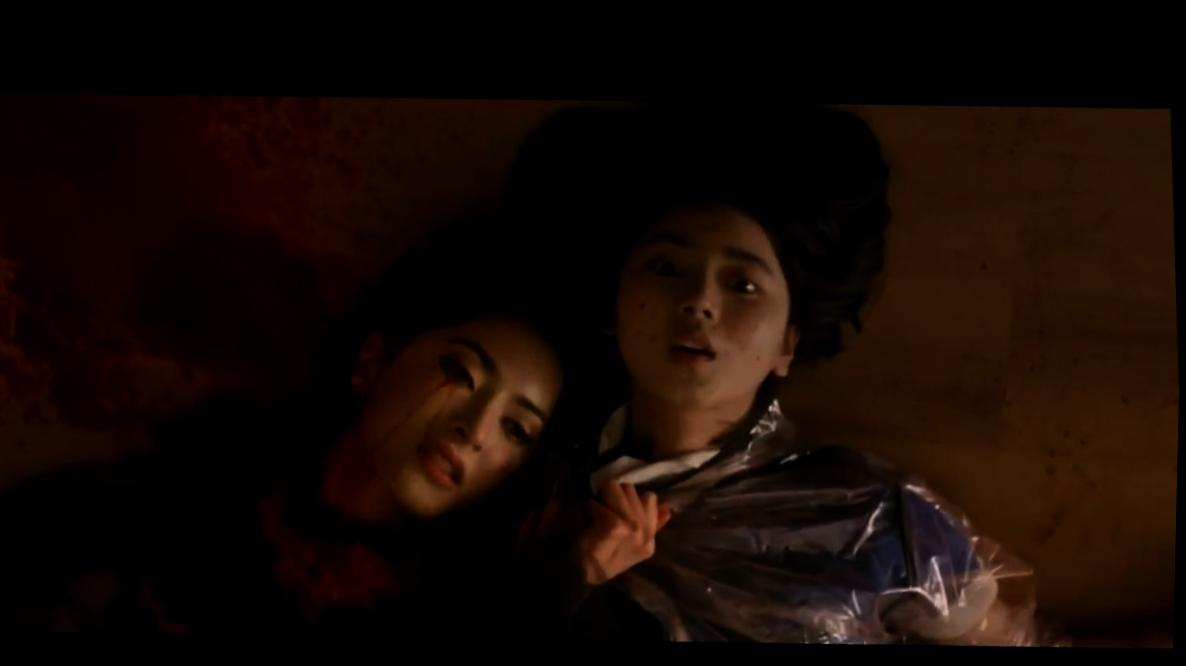Fire: (0, 93, 518, 629)
